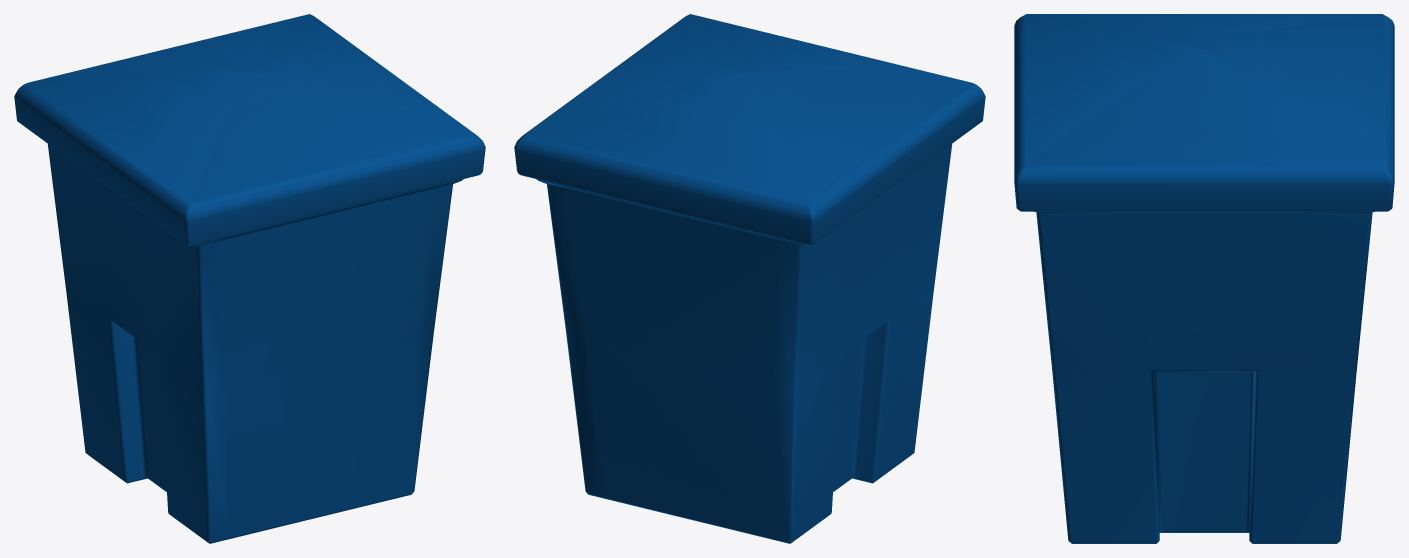
The model's file is SM_Trash_Bin.fbx.
The picture shows the model from 3 angles, left to right: view 1: azimuth 30°, elevation 25°; view 2: azimuth 150°, elevation 25°; view 3: azimuth 270°, elevation 25°; orthographic projection. The views are drawn at different scales.
Parts seen in each view (by area): view 1: Cube; view 2: Cube; view 3: Cube.
Boxes of the visible parts, <box> form: Cube: <box>14,14,485,543</box>; Cube: <box>514,14,985,543</box>; Cube: <box>1014,14,1394,543</box>.
Bounding box in the file's own units: 216 × 276 × 216.
